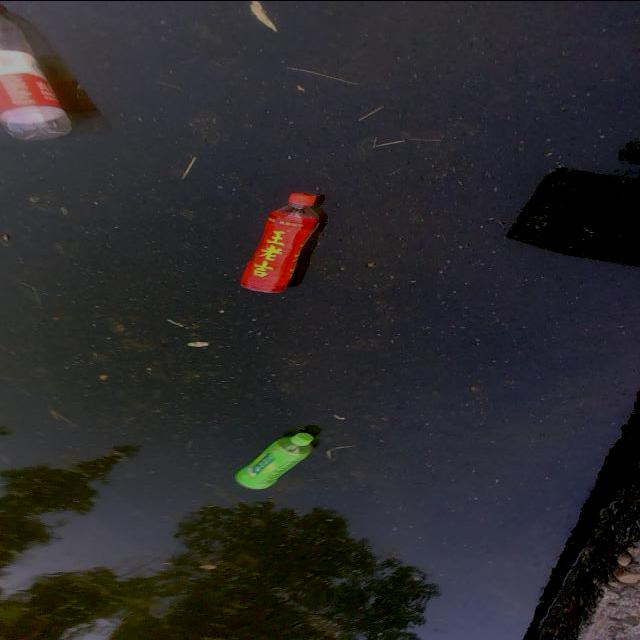bottle: (215, 166, 348, 316), (211, 402, 337, 510), (0, 0, 78, 148)
